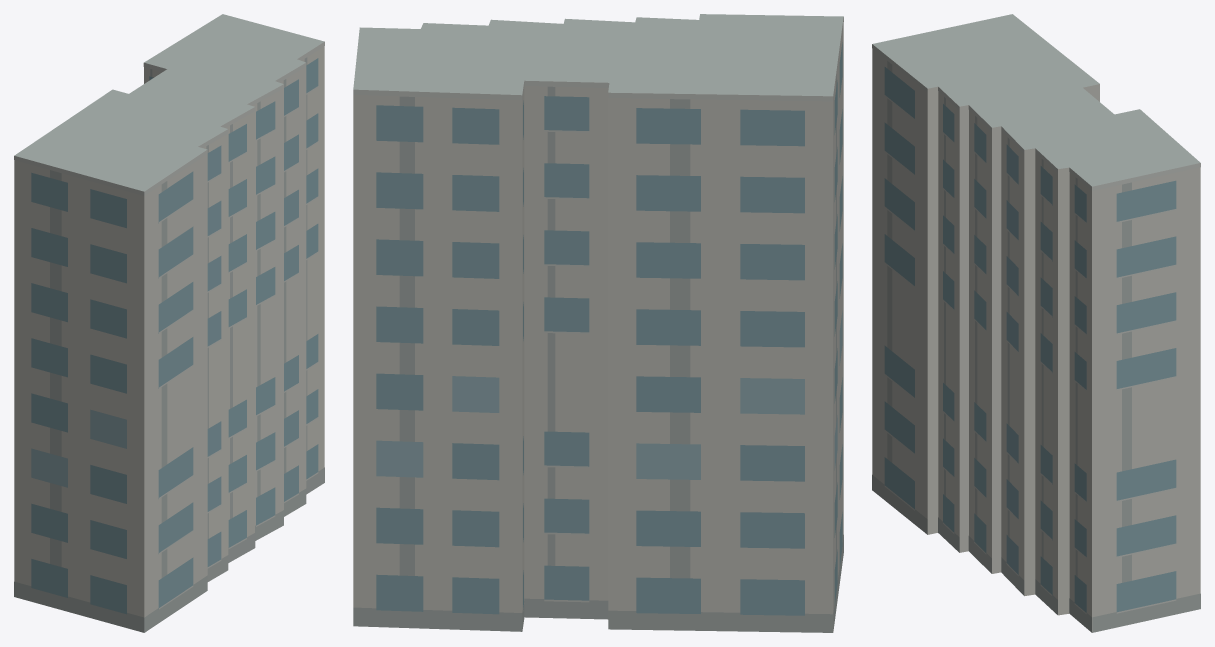
File: survey-upis-32808224.glb
3 renders of one model, left to right at view 1: azimuth 30°, elevation 25°; view 2: azimuth 150°, elevation 25°; view 3: azimuth 270°, elevation 25°, orthographic. The views are drawn at different scales.
Visible parts, largest first — view 1: survey-upis-32808224.tmp; view 2: survey-upis-32808224.tmp; view 3: survey-upis-32808224.tmp.
Part boxes in pixels (<box>): survey-upis-32808224.tmp: <box>14,14,324,632</box>; survey-upis-32808224.tmp: <box>353,14,843,632</box>; survey-upis-32808224.tmp: <box>872,14,1200,632</box>.
Bounding box in the file's own units: 20.26 × 24.4 × 16.29.
